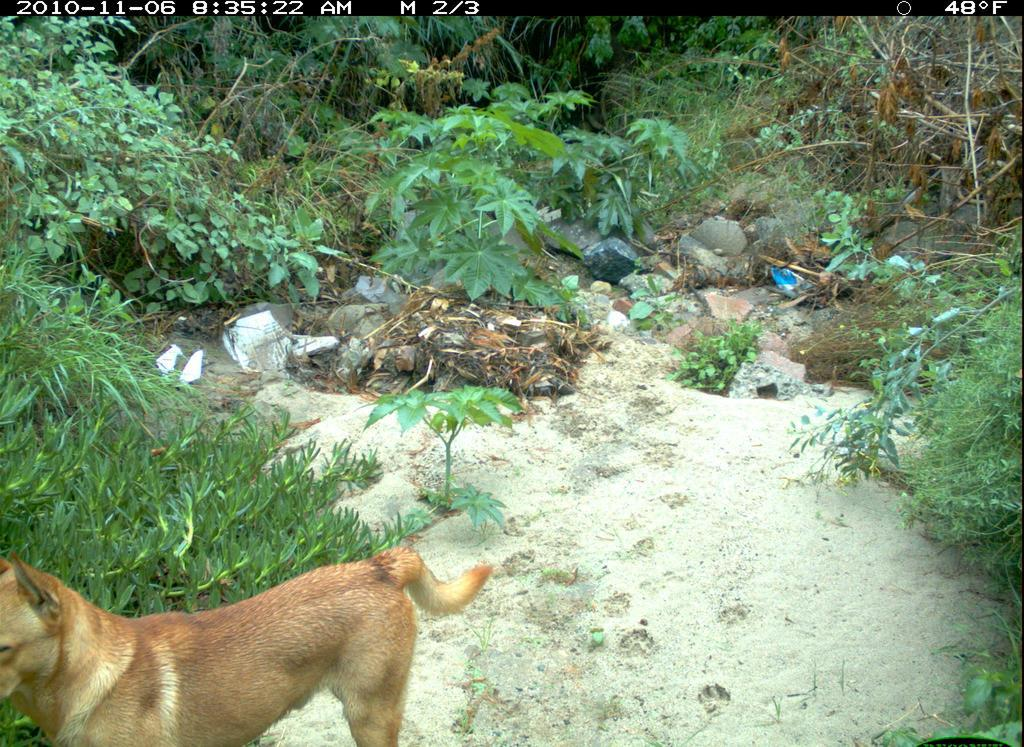dog: (1, 521, 534, 747)
